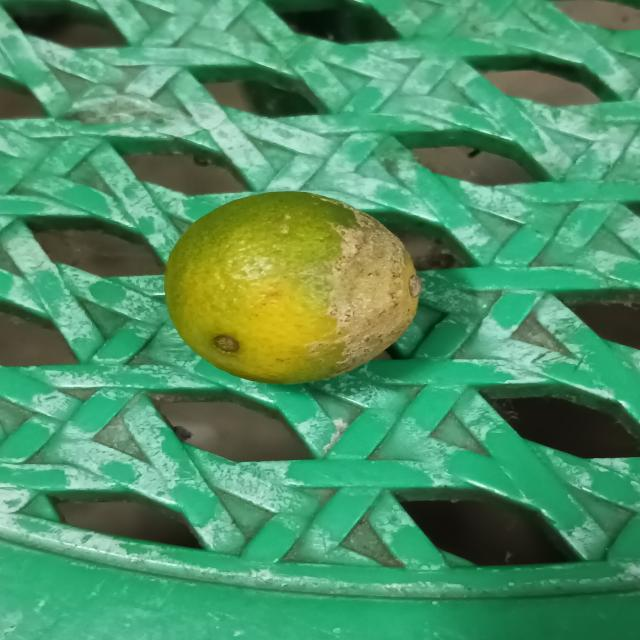thrips: (164, 192, 422, 381)
